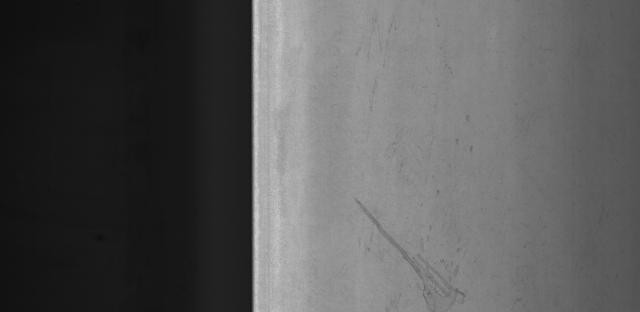water_spot: (350, 191, 484, 310)
